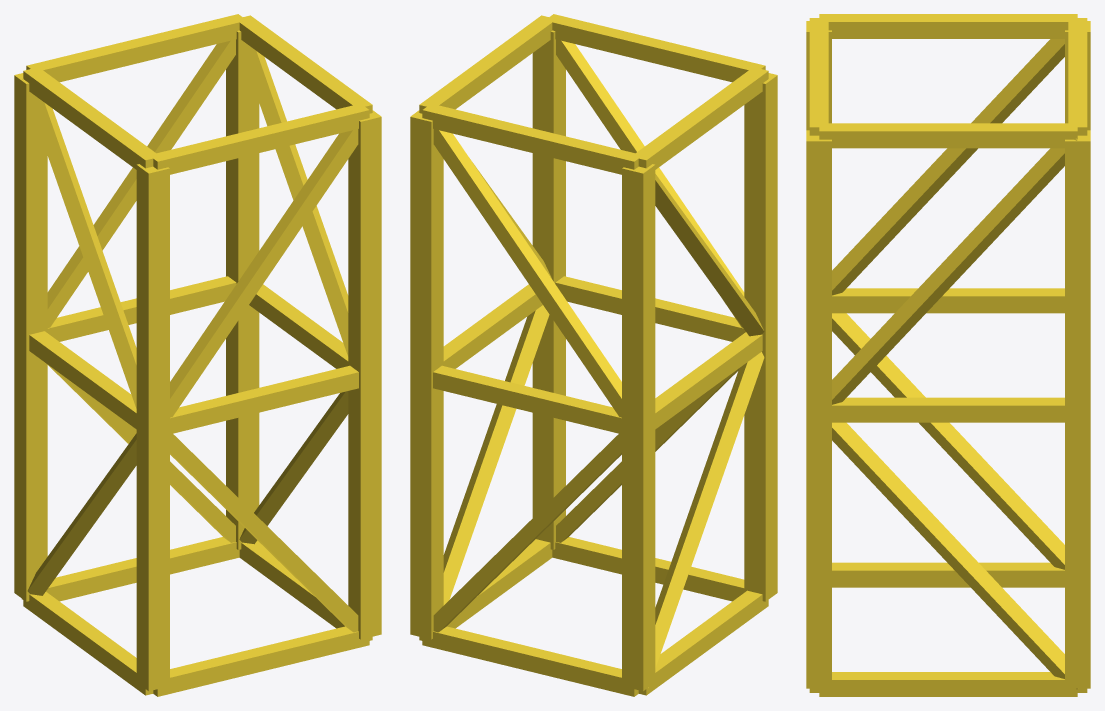
File: crane-mid.fbx
3 views of the same model, side by side, from view 1: azimuth 30°, elevation 25°; view 2: azimuth 150°, elevation 25°; view 3: azimuth 270°, elevation 25° (orthographic). The views are drawn at different scales.
Visible parts, largest first — view 1: Crane_mid; view 2: Crane_mid; view 3: Crane_mid.
Boxes of the visible parts, left/top/right/bottom form: Crane_mid: left=14, top=14, right=381, bottom=696; Crane_mid: left=410, top=14, right=777, bottom=696; Crane_mid: left=806, top=14, right=1090, bottom=696.
Size of the model in its own units: 1.82 by 3.98 by 1.82.
